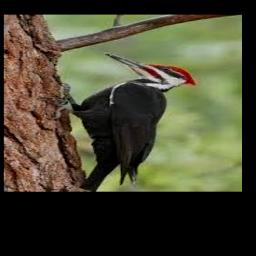Woodpecker: (44, 53, 196, 191)
